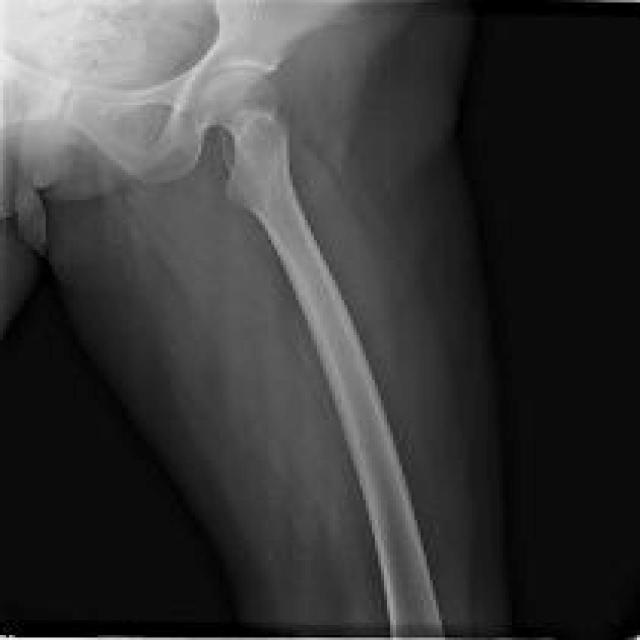normal: (68, 0, 445, 638)
